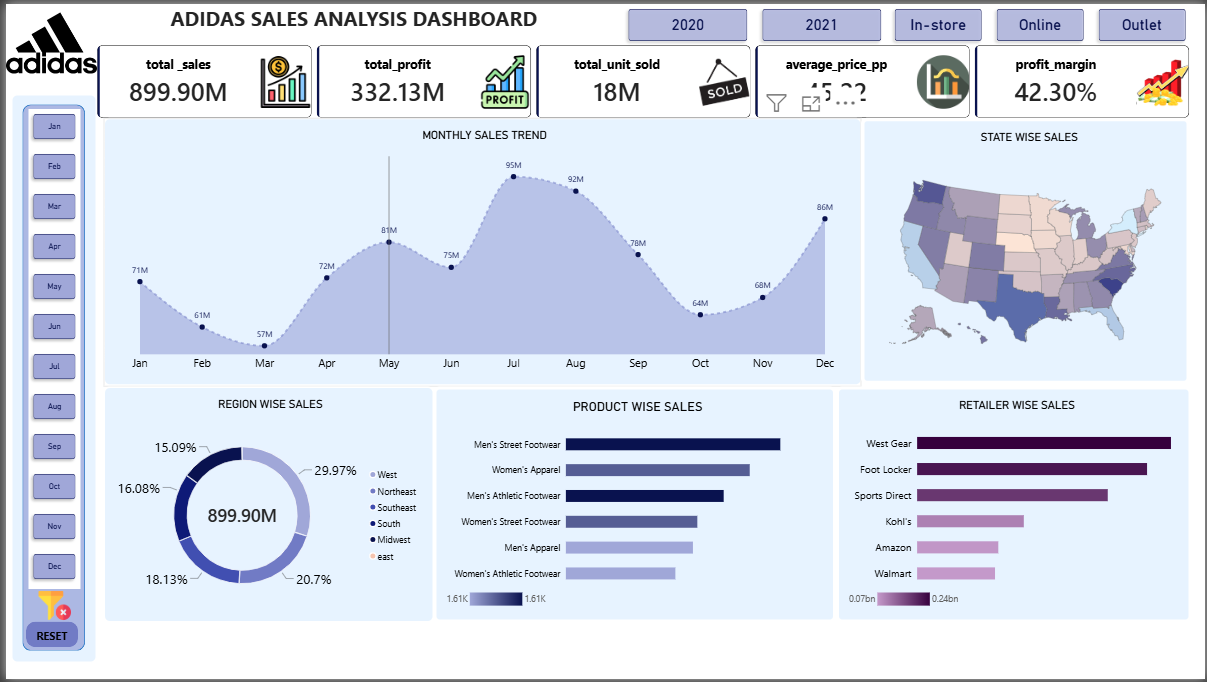

Layout of this report page (visuals, bound fields, positions):
{"tool":"powerbi","page":{"name":"visual dashboard","canvas":[1920,1080],"ordinal":0},"visuals":[{"type":"cardVisual","fields":{"Data":["Data Sales Adidas.total _sales","Data Sales Adidas.total_profit","Data Sales Adidas.total_unit_sold","Data Sales Adidas.average_price_pp","Data Sales Adidas.profit_margin"]},"box":[145,66.2,1751.2,116.2],"z":0},{"type":"image","box":[0,0,145.6,124.4],"z":1000},{"type":"textbox","box":[154.4,0,805,45],"z":2000},{"type":"shape","box":[7.8,143.3,137.8,910],"z":3000},{"type":"areaChart","title":"MONTHLY SALES TREND","fields":{"Category":["Data Sales Adidas.month"],"Y":["Data Sales Adidas.total _sales"]},"box":[155,182.5,1213.8,428.8],"z":4000},{"type":"shapeMap","title":"STATE WISE SALES","fields":{"Category":["Data Sales Adidas.State"],"Value":["Data Sales Adidas.total _sales"]},"box":[1368.9,182.2,526.7,426.7],"z":5000},{"type":"donutChart","title":"REGION WISE SALES","fields":{"Category":["Data Sales Adidas.Region"],"Y":["Data Sales Adidas.total _sales"]},"box":[155,611.2,528.8,377.5],"z":6000},{"type":"clusteredBarChart","title":"PRODUCT WISE SALES","fields":{"Category":["Data Sales Adidas.Product"],"Y":["Data Sales Adidas.total _sales"]},"box":[683.8,611.2,643.8,377.5],"z":7000},{"type":"clusteredBarChart","title":"RETAILER WISE SALES","fields":{"Category":["Data Sales Adidas.Retailer"],"Y":["Data Sales Adidas.total _sales"]},"box":[1327.8,611.1,568.9,377.8],"z":8000},{"type":"advancedSlicerVisual","fields":{"Values":["Data Sales Adidas.Sales Method"]},"box":[1413.3,0,482.5,67.5],"z":9000},{"type":"advancedSlicerVisual","fields":{"Values":["Data Sales Adidas.Invoice Date.Variation.Date Hierarchy.Year"]},"box":[988.8,0,420,67.5],"z":10000},{"type":"advancedSlicerVisual","fields":{"Values":["Data Sales Adidas.month"]},"box":[35.6,168.9,83.3,767.8],"z":11000},{"type":"image","box":[36.7,936.7,83.8,52.5],"z":12000},{"type":"actionButton","box":[31.1,988.9,83.3,41.1],"z":13000}]}

Visuals, with their boxes in screenshot pixels (x1, y1, x2, y2), scaled from the page's 1920x1080 canvas onto the 1207x682 screenshot:
cardVisual - Data Sales Adidas.total _sales x Data Sales Adidas.total_profit: [left=91, top=42, right=1192, bottom=115]
image: [left=0, top=0, right=92, bottom=79]
textbox: [left=97, top=0, right=603, bottom=28]
shape: [left=5, top=90, right=92, bottom=665]
"MONTHLY SALES TREND" areaChart: [left=97, top=115, right=860, bottom=386]
"STATE WISE SALES" shapeMap: [left=861, top=115, right=1192, bottom=385]
"REGION WISE SALES" donutChart: [left=97, top=386, right=430, bottom=624]
"PRODUCT WISE SALES" clusteredBarChart: [left=430, top=386, right=835, bottom=624]
"RETAILER WISE SALES" clusteredBarChart: [left=835, top=386, right=1192, bottom=624]
advancedSlicerVisual - Data Sales Adidas.Sales Method: [left=888, top=0, right=1192, bottom=43]
advancedSlicerVisual - Data Sales Adidas.Invoice Date.Variation.Date Hierarchy.Year: [left=622, top=0, right=886, bottom=43]
advancedSlicerVisual - Data Sales Adidas.month: [left=22, top=107, right=75, bottom=592]
image: [left=23, top=592, right=76, bottom=625]
actionButton: [left=20, top=624, right=72, bottom=650]
